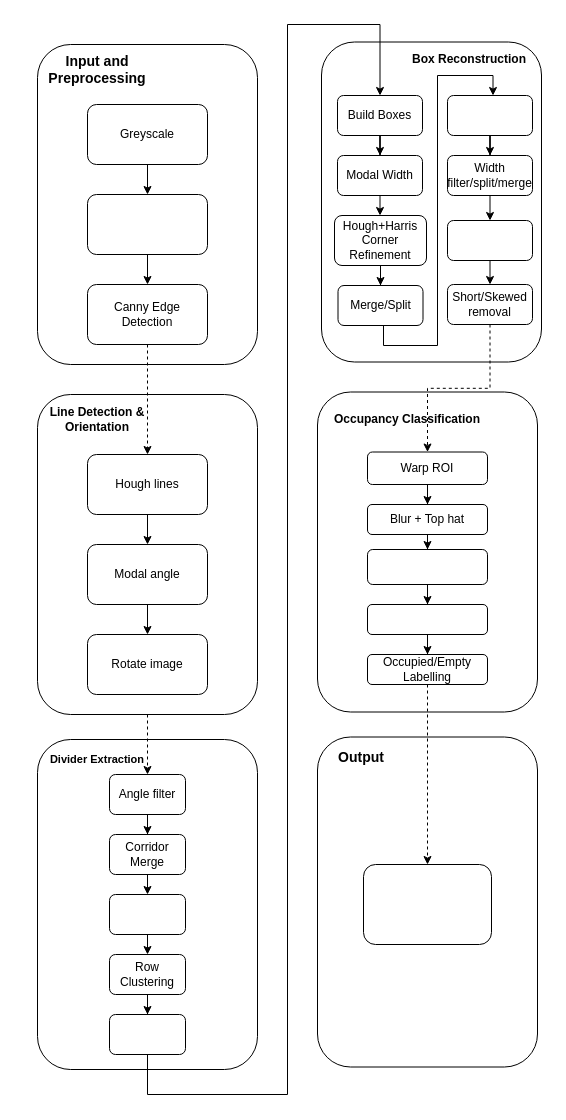
The diagram is 566 pixels wide and 1120 high, and some of its shapes have lost their labels. The shapes that lost their labels are listed below. From the top down, each one's centre as x and y in pixels, then its label:
the point at 489,115: Modal Width x2
the point at 147,224: Gaussian Blur
the point at 489,240: Height Split
the point at 427,566: Canny + Sobel + Standard Deviation
the point at 427,619: Score
the point at 147,914: Length Filter
the point at 427,904: Annotate Image and Provide Stall data.
the point at 147,1034: Row Merging
